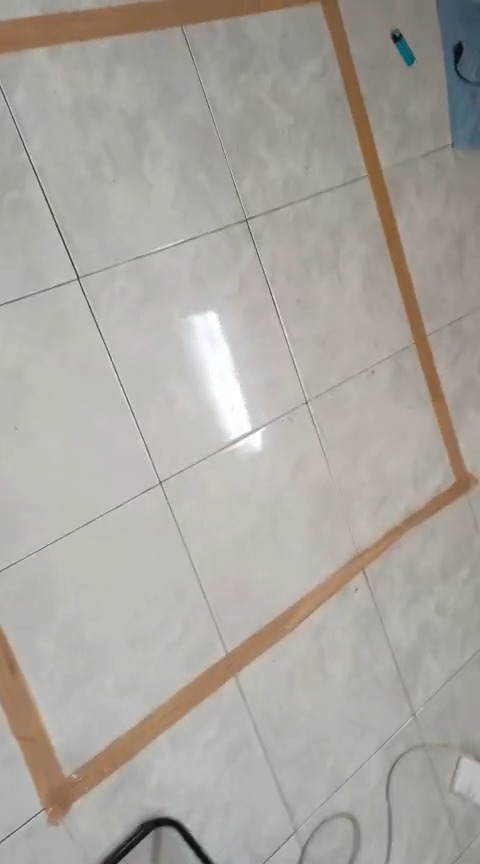floor marking: (0, 0, 476, 823)
